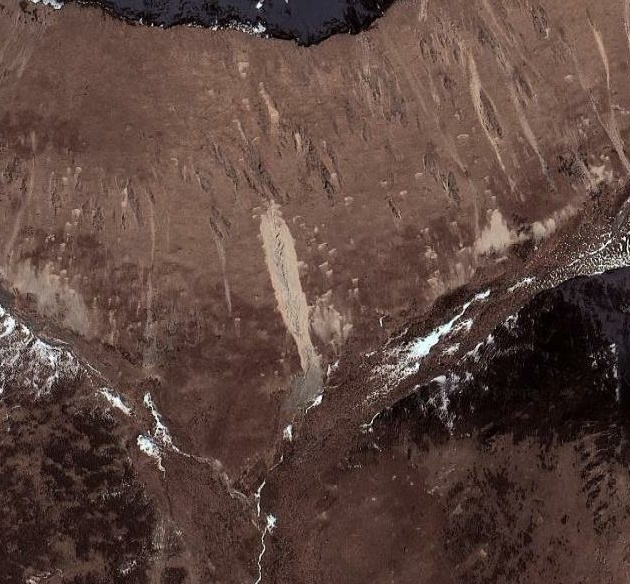slope: (254, 200, 318, 369)
